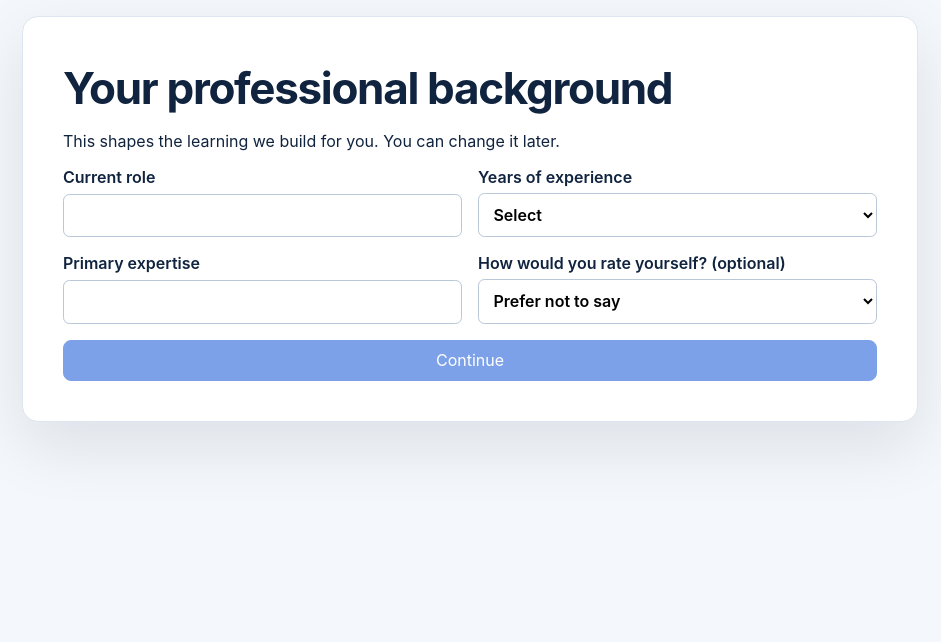
submits the profile and re-reads the server state rather than assuming the next step
In the field labelled "Current role": {"x": 262, "y": 216} [63, 194, 462, 237], type "Staff Engineer"
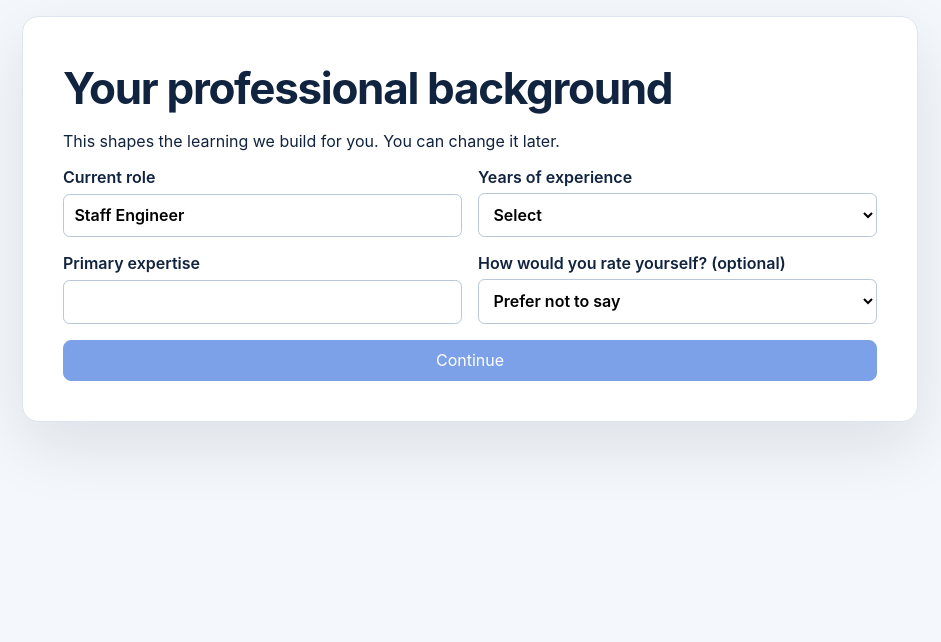
Select "5 to 10 years" in the dropdown labelled "Years of experience": {"x": 678, "y": 215} [478, 193, 877, 237]
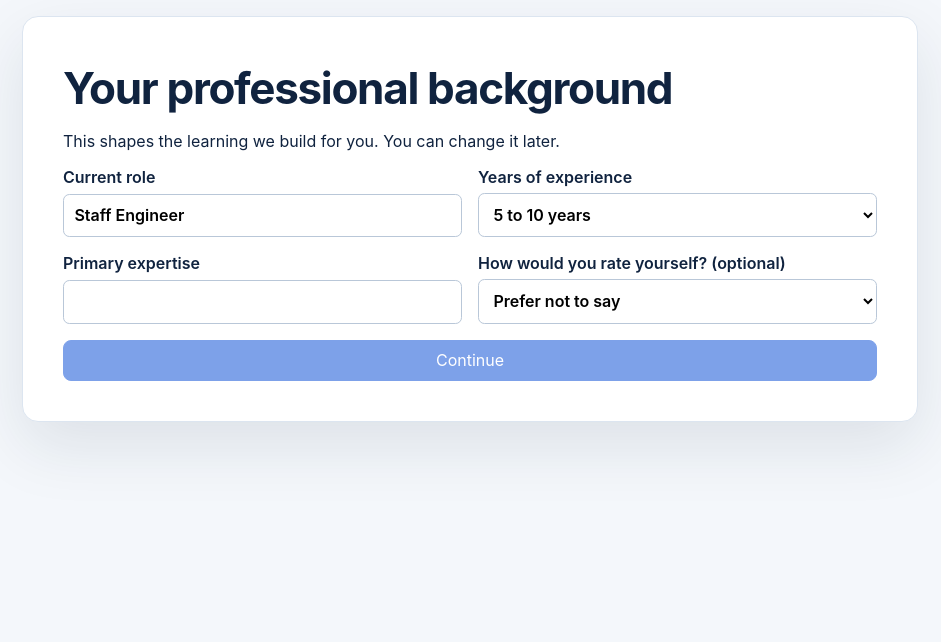
In the field labelled "Primary expertise": {"x": 262, "y": 302} [63, 280, 462, 324], type "Distributed systems"
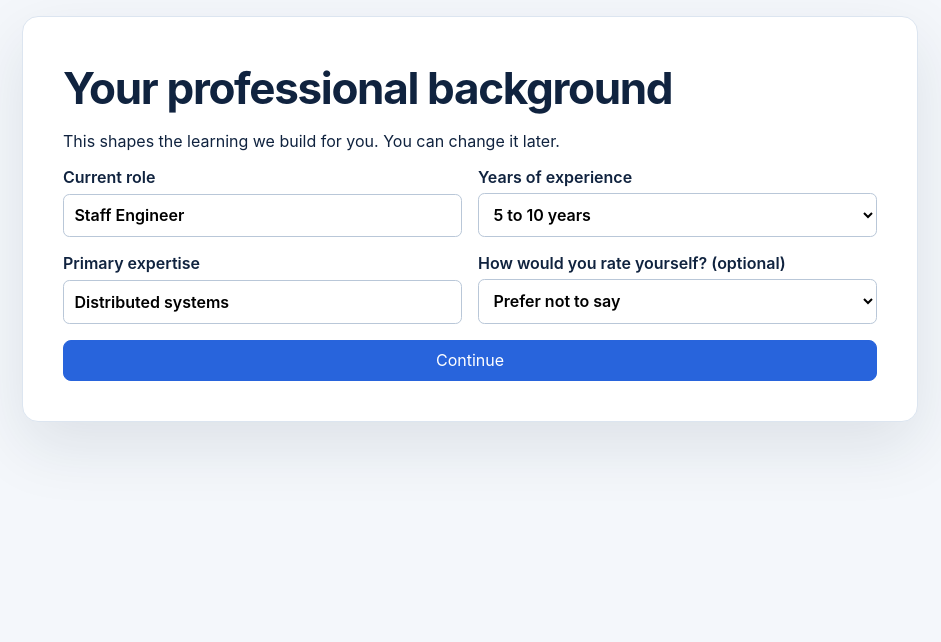
Click the button "Continue": {"x": 470, "y": 360} [63, 340, 877, 381]
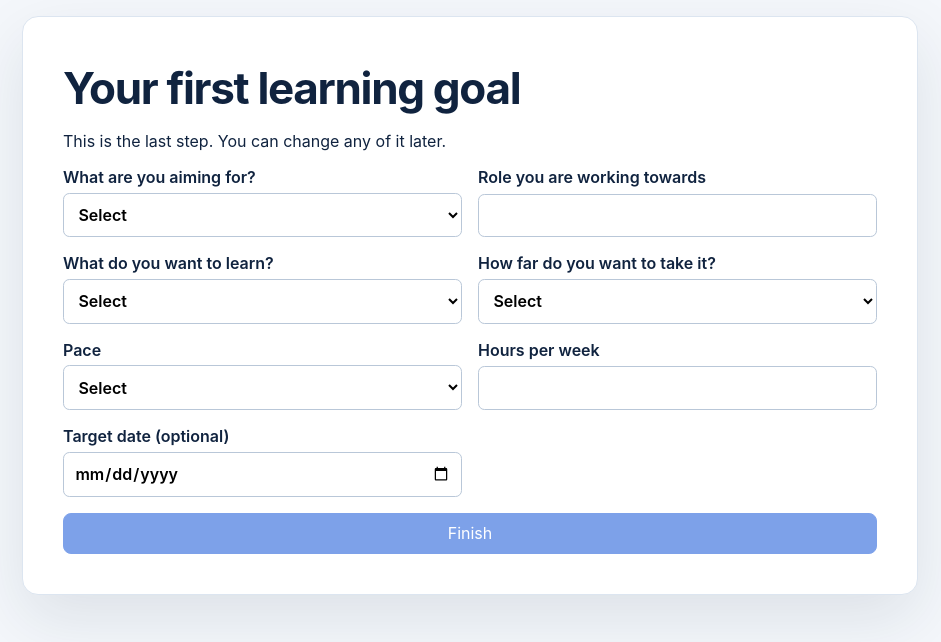
Expected: the heading "Your first learning goal" is shown, [63, 61, 520, 115]
